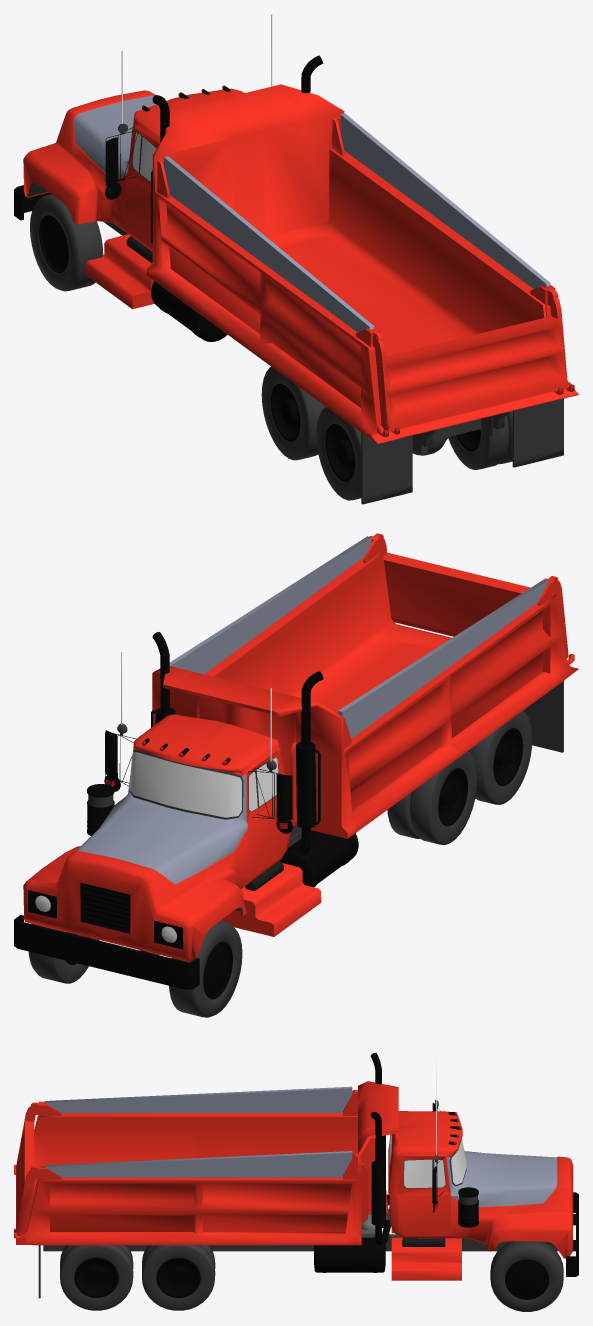
Rendered from truck_6.dae.
The picture shows the model from 3 angles, top to bottom: view 1: azimuth 30°, elevation 25°; view 2: azimuth 150°, elevation 25°; view 3: azimuth 270°, elevation 25°; orthographic projection. The views are drawn at different scales.
Visible parts, largest first — view 1: dump02, gate02, sides02, body03, rtires02, flap02, ftire02, body04, steps02, rrims02, door02, gtank02 (+4 smaller); view 2: dump02, body03, sides02, body04, gate02, rtires02, glass02, bumper02, ftire02, steps02, chrome02, rrims02 (+10 smaller); view 3: dump02, sides02, body03, rtires02, body04, ftire02, door02, rrims02, steps02, gtank02, gate02, frame02 (+7 smaller).
Part boxes in pixels (box(x1,y1,x2,y2)): dump02: box(146, 84, 578, 443); gate02: box(373, 297, 567, 431); sides02: box(164, 113, 550, 332); body03: box(23, 88, 244, 251); rtires02: box(261, 366, 512, 500); flap02: box(361, 398, 563, 504); ftire02: box(30, 194, 103, 291); body04: box(74, 95, 155, 179); steps02: box(85, 234, 154, 309); rrims02: box(270, 383, 480, 481); door02: box(124, 127, 158, 249); gtank02: box(151, 281, 227, 341); dump02: box(152, 533, 578, 838); body03: box(23, 714, 290, 962); sides02: box(169, 536, 548, 738); body04: box(76, 774, 248, 884); gate02: box(370, 539, 568, 658); rtires02: box(387, 711, 532, 844); glass02: box(129, 751, 278, 817); bumper02: box(14, 915, 199, 989); ftire02: box(28, 920, 242, 1017); steps02: box(221, 863, 321, 936); chrome02: box(28, 738, 230, 949); rrims02: box(438, 728, 523, 826); dump02: box(14, 1081, 398, 1245); sides02: box(45, 1086, 352, 1177); body03: box(388, 1111, 573, 1258); rtires02: box(60, 1245, 215, 1310); body04: box(446, 1150, 557, 1206); ftire02: box(490, 1241, 563, 1311); door02: box(397, 1156, 450, 1236); rrims02: box(74, 1257, 200, 1297); steps02: box(391, 1228, 461, 1280); gtank02: box(314, 1225, 385, 1272); gate02: box(16, 1106, 35, 1234); frame02: box(43, 1208, 558, 1251).
Bounding box in the file's own units: 280 × 372 × 911.
